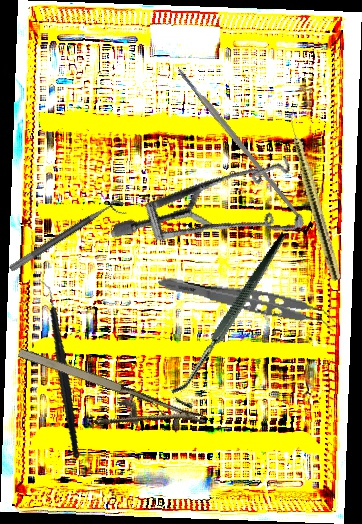Chopper: (6, 277, 111, 459)
Fixation Ring: (7, 195, 131, 282)
Handpiece: (282, 107, 344, 282)
Hook Surgical: (130, 231, 336, 414)
Needle Holder: (5, 342, 207, 462)
Scalpel Handle: (176, 66, 306, 224)
Speculum: (110, 108, 324, 299)
Tissue Forceps: (154, 273, 340, 334)
